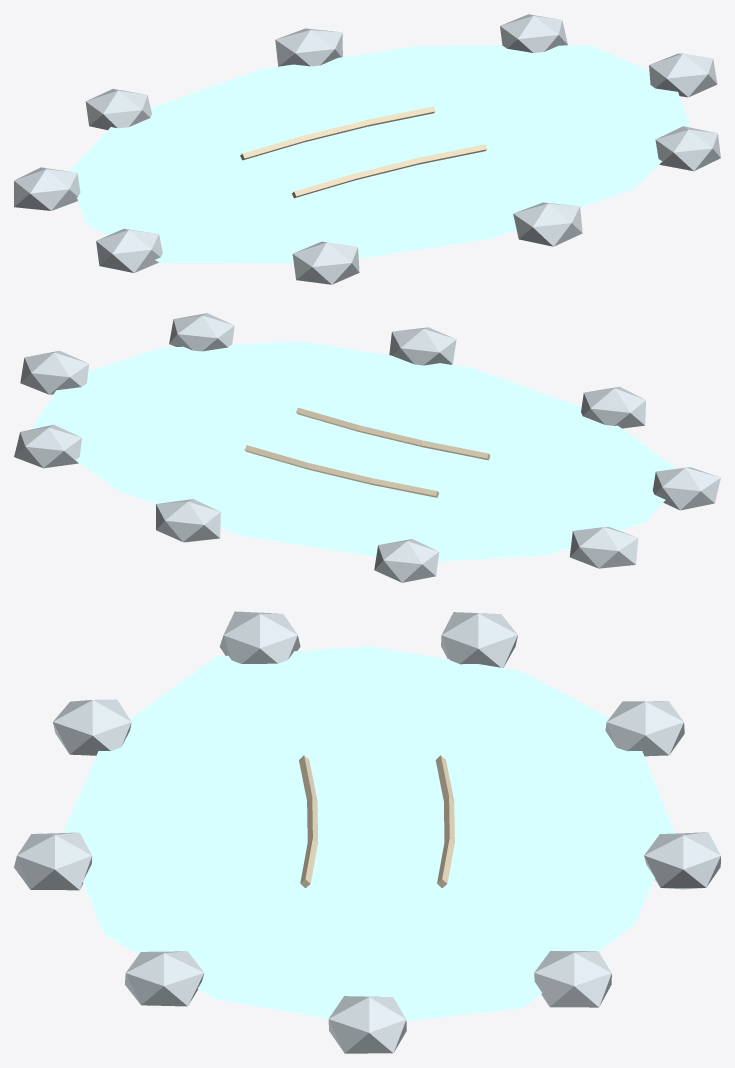
The model's file is enfeite_lago.glb.
3 views of the same model, one above another, from view 1: azimuth 30°, elevation 25°; view 2: azimuth 150°, elevation 25°; view 3: azimuth 270°, elevation 25° (orthographic). The views are drawn at different scales.
Visible parts, largest first — view 1: neve_enfeite_lago; view 2: neve_enfeite_lago; view 3: neve_enfeite_lago.
Boxes of the visible parts, <box> form: neve_enfeite_lago: <box>14,14,720,284</box>; neve_enfeite_lago: <box>14,313,720,582</box>; neve_enfeite_lago: <box>14,611,720,1053</box>.
Size of the model in its own units: 1.54 by 0.0951 by 1.09.
